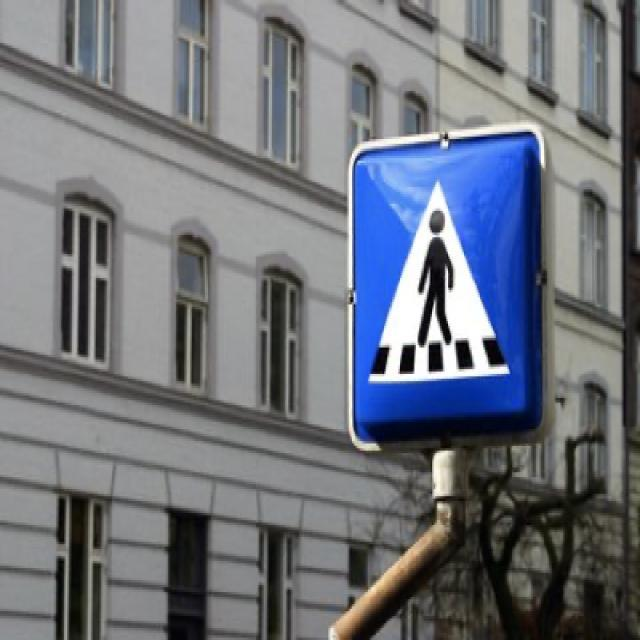crosswalk_sign: (346, 119, 546, 453)
